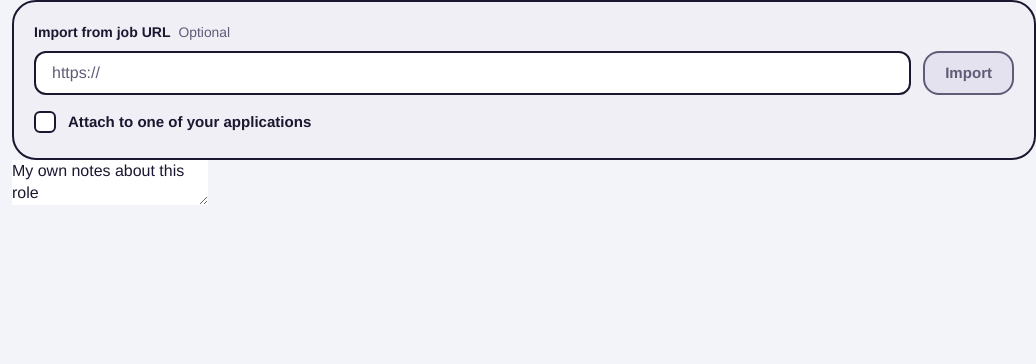
Scenario: JobImportCard › importing from a URL › does not overwrite a typed description without asking
The image size is (1036, 364).
Type "https://www.jobs.example.com/backend" into the field labelled "Import from job URL Optional" at coordinates (473, 73), box [52, 53, 893, 93]
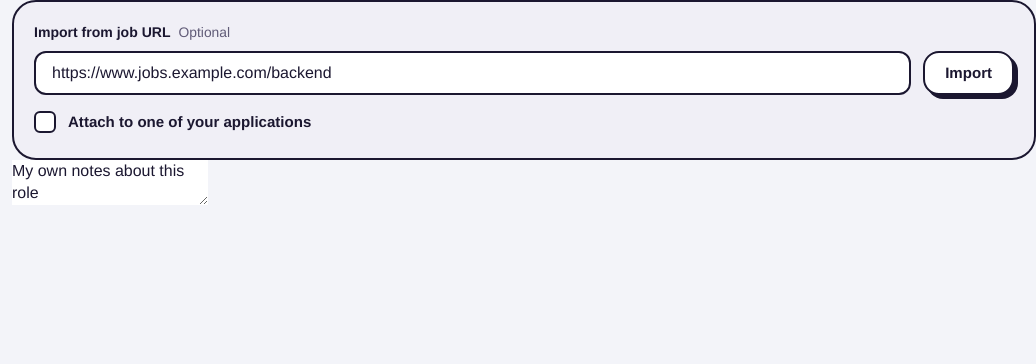
Click the button "Import" at coordinates (969, 73), box [923, 51, 1014, 95]
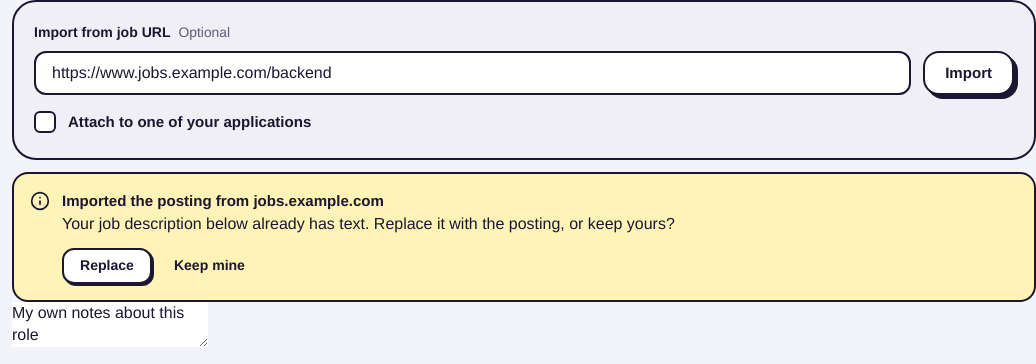
Expected: the text box named "Job description" holds "My own notes about this role", [12, 302, 208, 346]
Result: the text "Imported the posting from jobs.example.com" is shown at [62, 190, 384, 210]
Click the button "Keep mine" at coordinates (209, 266), box [160, 248, 259, 284]
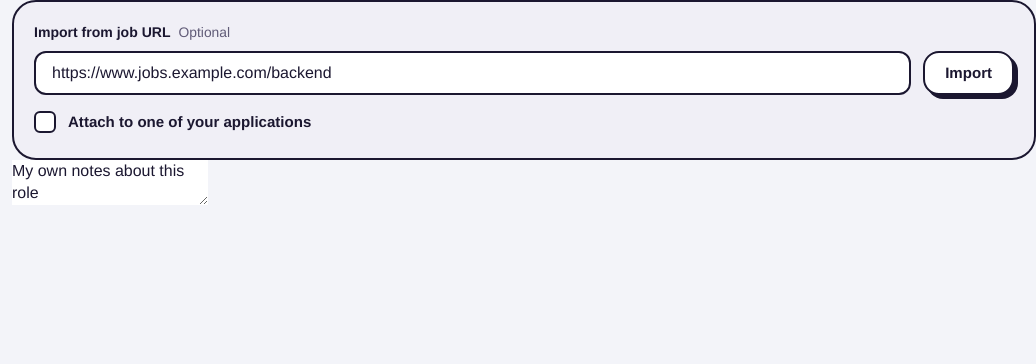
Expected: the text box named "Job description" holds "My own notes about this role", [12, 160, 208, 204]
Result: the text "Imported the posting from jobs.example.com" is gone
Click the button "Import" at coordinates (969, 73), box [923, 51, 1014, 95]
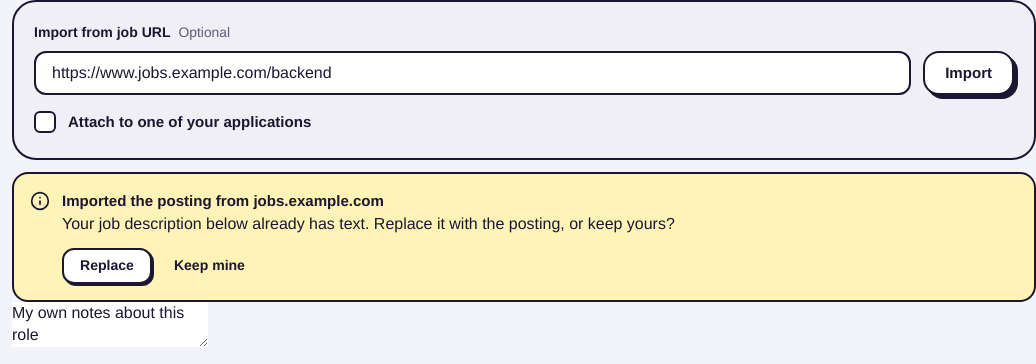
Click the button "Replace" at coordinates (107, 266), box [62, 248, 152, 284]
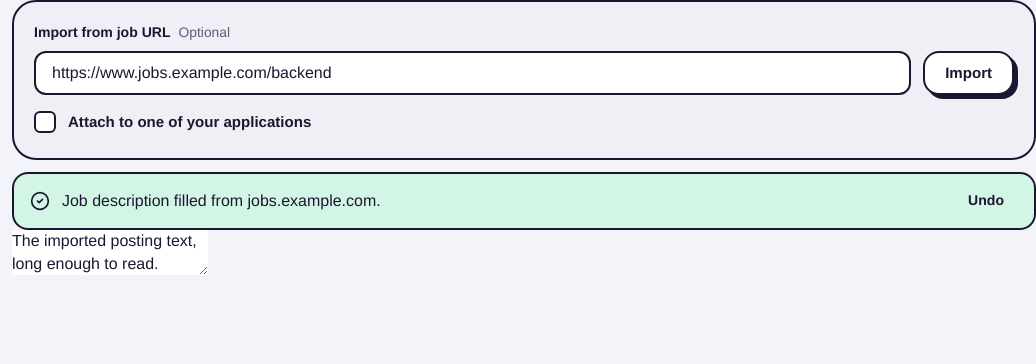
Result: the text box named "Job description" holds "The imported posting text, long enough to read." at [12, 230, 208, 275]
Result: the text "Job description filled from jobs.example.com." is shown at [62, 190, 381, 210]
